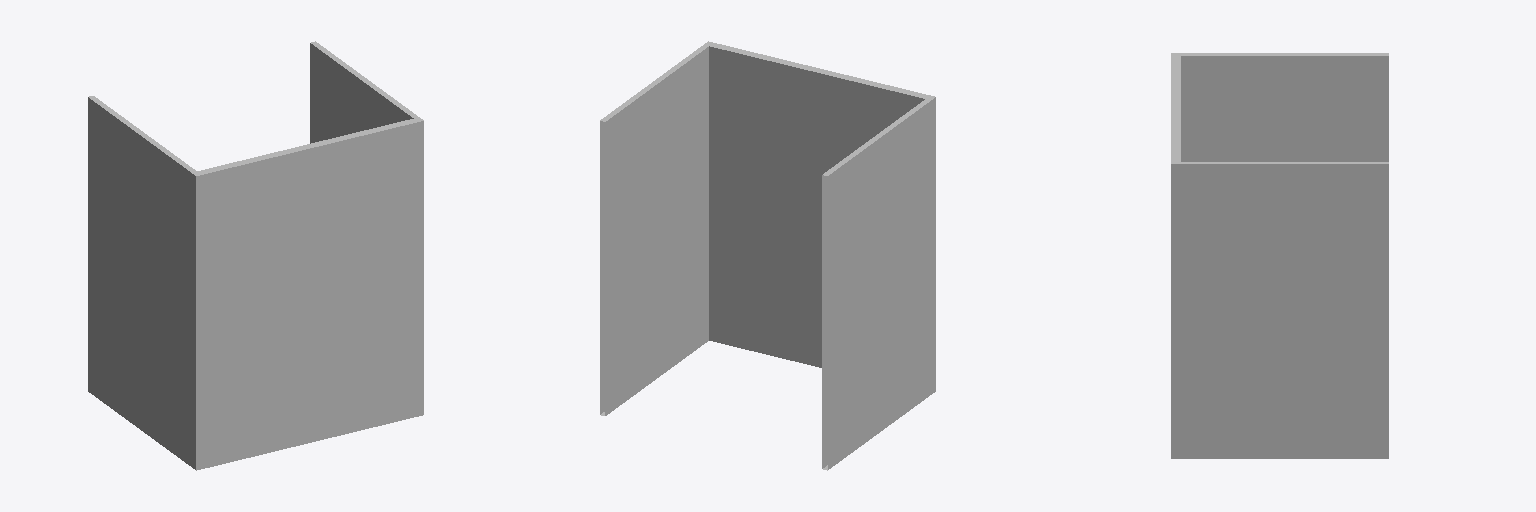
Rendered from walls2.obj.
The picture shows the model from 3 angles: view 1: azimuth 30°, elevation 25°; view 2: azimuth 150°, elevation 25°; view 3: azimuth 270°, elevation 25°; orthographic projection.
Visible parts, largest first — view 1: Plane.012_Plane.031; view 2: Plane.012_Plane.031; view 3: Plane.012_Plane.031.
Boxes of the visible parts, x1=… form: Plane.012_Plane.031: x1=88, y1=41, x2=423, y2=470; Plane.012_Plane.031: x1=600, y1=41, x2=935, y2=470; Plane.012_Plane.031: x1=1171, y1=53, x2=1388, y2=458.
Bounding box in the file's own units: 2.01 × 2.48 × 1.66.